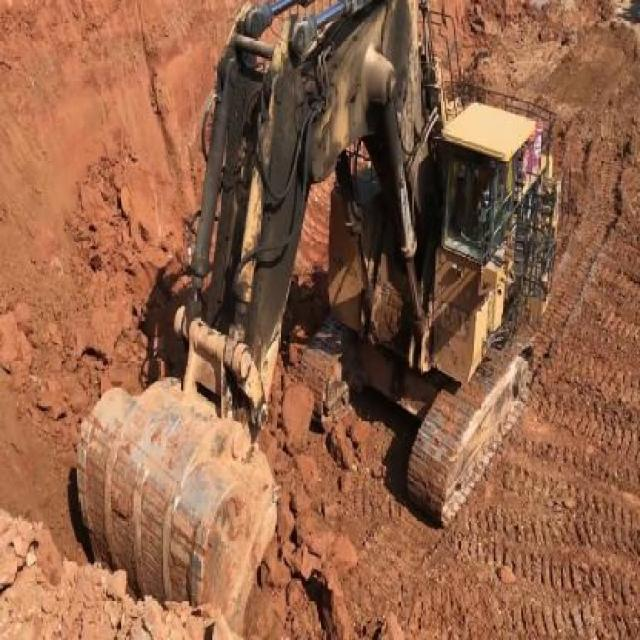excavator: (75, 1, 574, 619)
